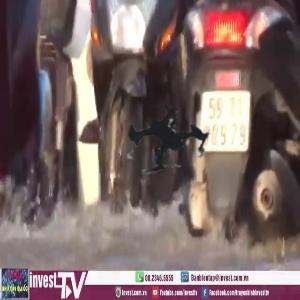drone: (57, 32, 281, 256)
